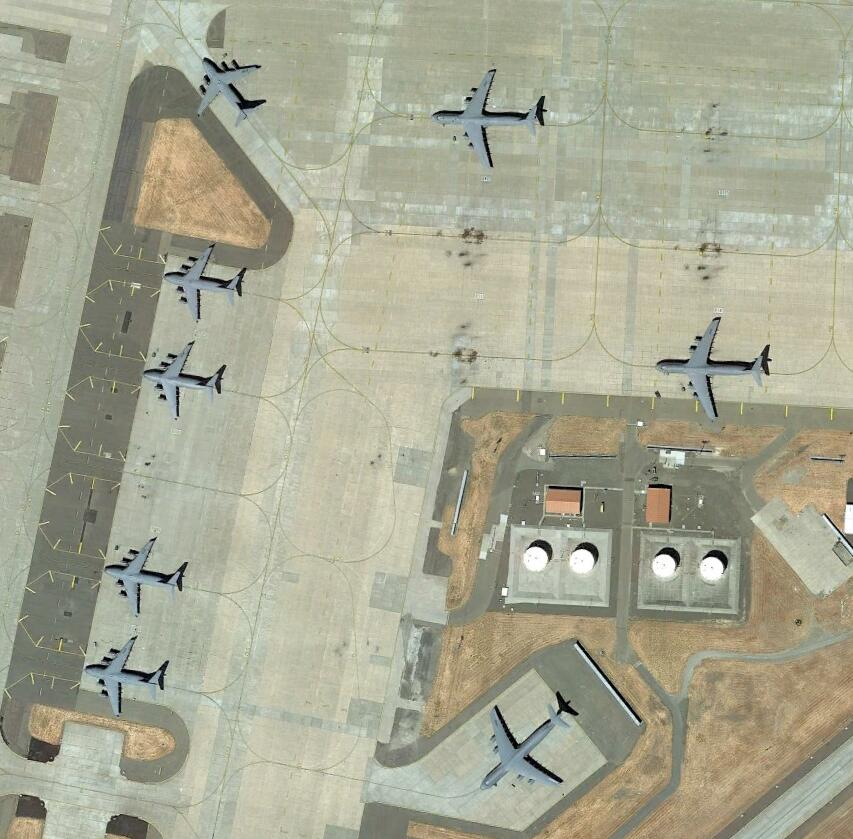A3: (140, 342, 225, 420), (83, 639, 165, 718), (163, 243, 241, 320), (106, 538, 181, 617), (193, 54, 263, 128)
A4: (656, 315, 770, 426), (431, 67, 540, 176), (479, 705, 568, 795)
